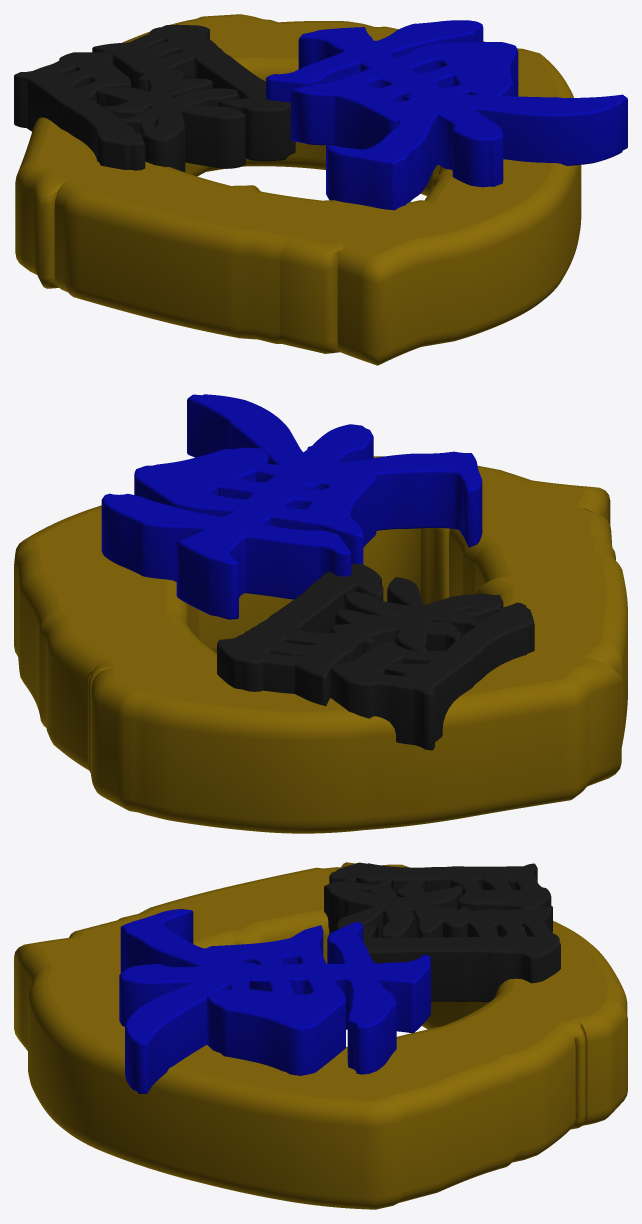
File: KC3_kanto3.fbx
3 renders of one model, top to bottom at view 1: azimuth 30°, elevation 25°; view 2: azimuth 150°, elevation 25°; view 3: azimuth 270°, elevation 25°, orthographic. The views are drawn at different scales.
Visible parts, largest first — view 1: テキスト.004, テキスト.005, テキスト.003; view 2: テキスト.004, テキスト.005, テキスト.003; view 3: テキスト.004, テキスト.005, テキスト.003.
Part boxes in pixels (<box>): テキスト.004: <box>15,14,581,365</box>; テキスト.005: <box>266,20,627,210</box>; テキスト.003: <box>14,24,295,172</box>; テキスト.004: <box>14,456,627,833</box>; テキスト.005: <box>101,394,482,619</box>; テキスト.003: <box>217,563,534,750</box>; テキスト.004: <box>14,862,627,1209</box>; テキスト.005: <box>119,909,430,1093</box>; テキスト.003: <box>324,862,560,1002</box>.
Size of the model in its own units: 231 by 65.45 by 235.
